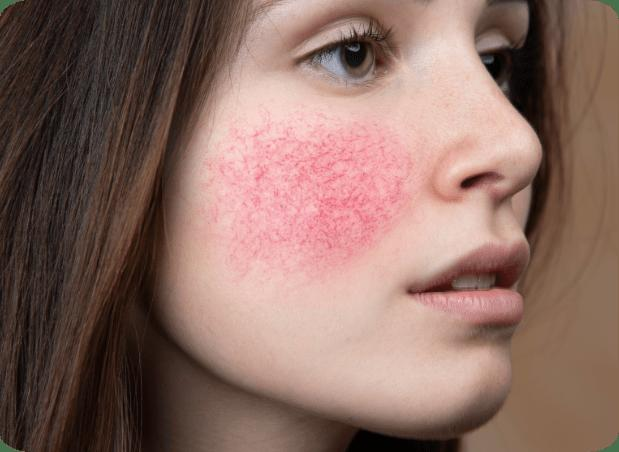Skin-Redness: (206, 117, 424, 269)
